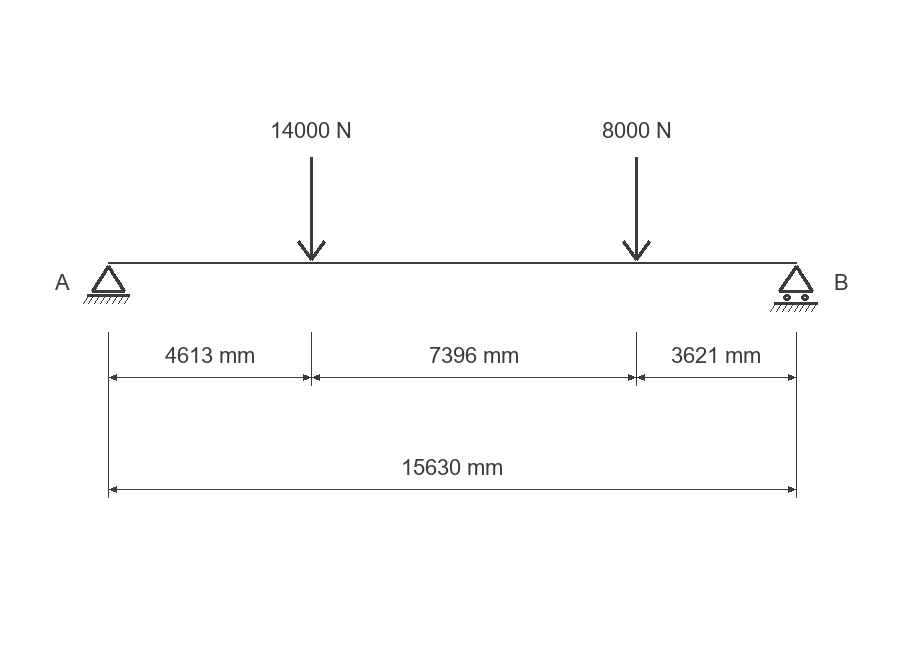pin_support: (83, 265, 130, 304)
point_load: (297, 157, 326, 261), (622, 157, 651, 261)
roller_support: (770, 265, 818, 312)
